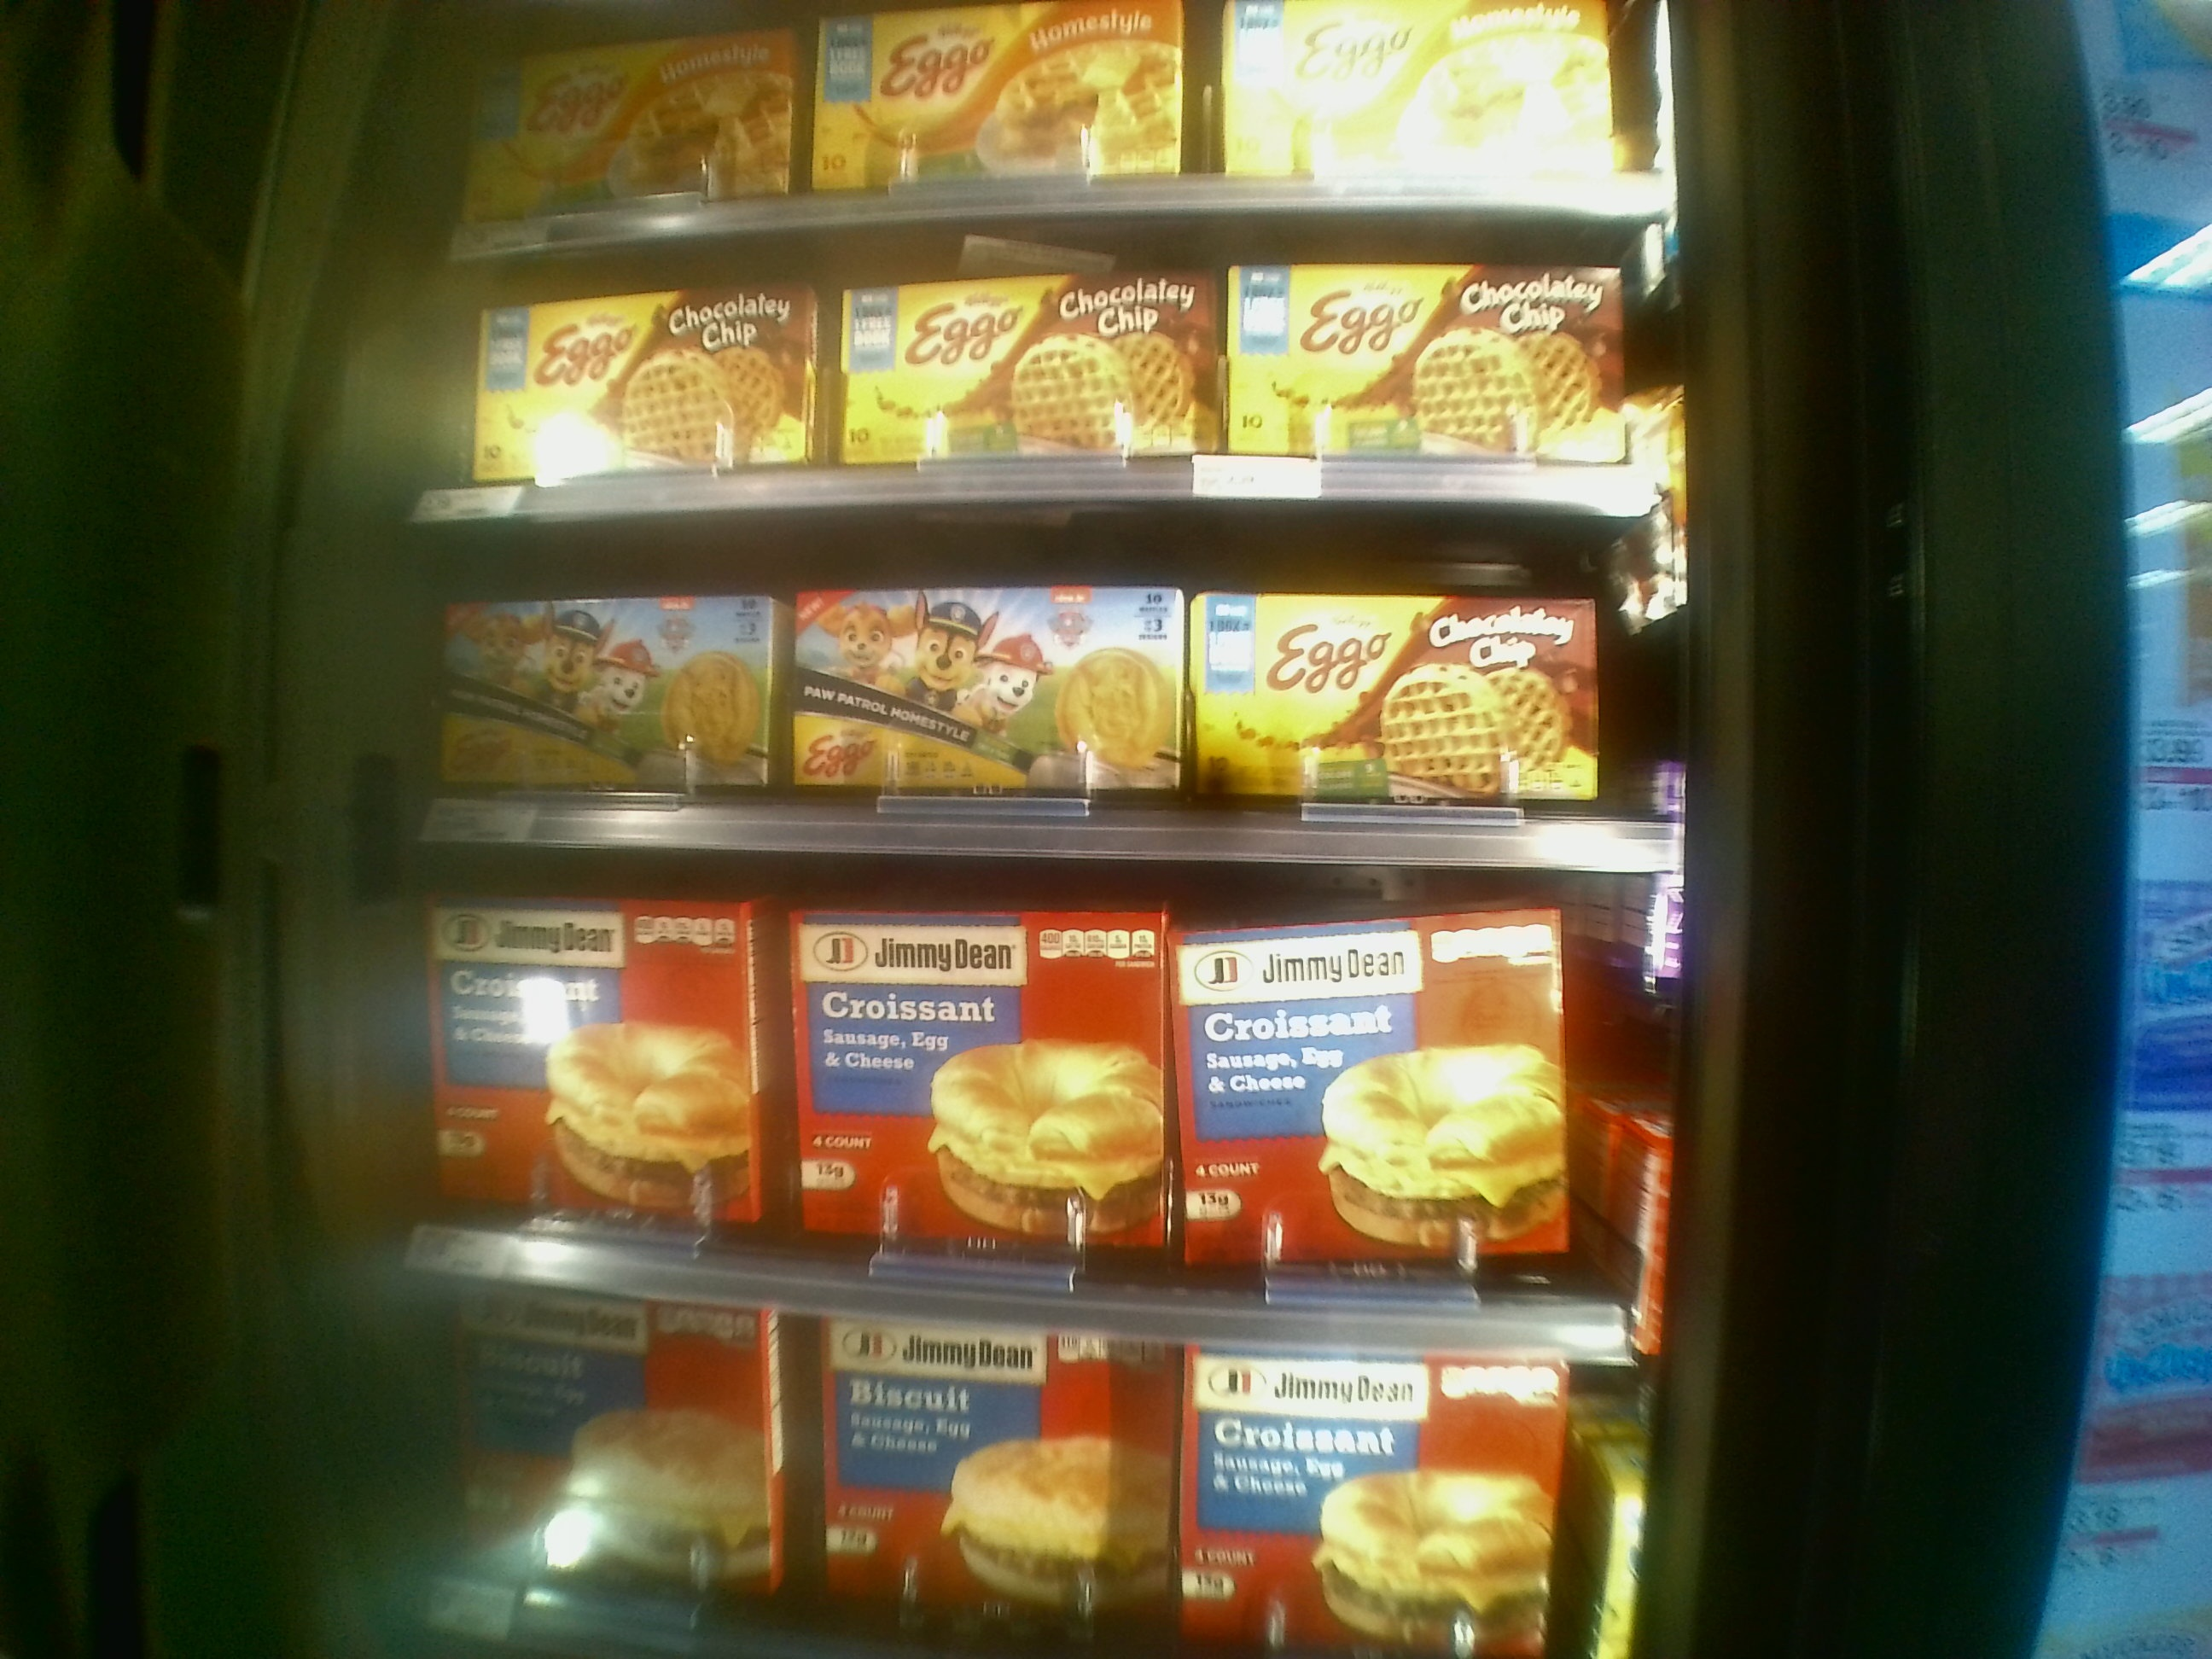shelf: (411, 829, 1651, 1361), (413, 511, 1658, 870), (428, 254, 1656, 504)
